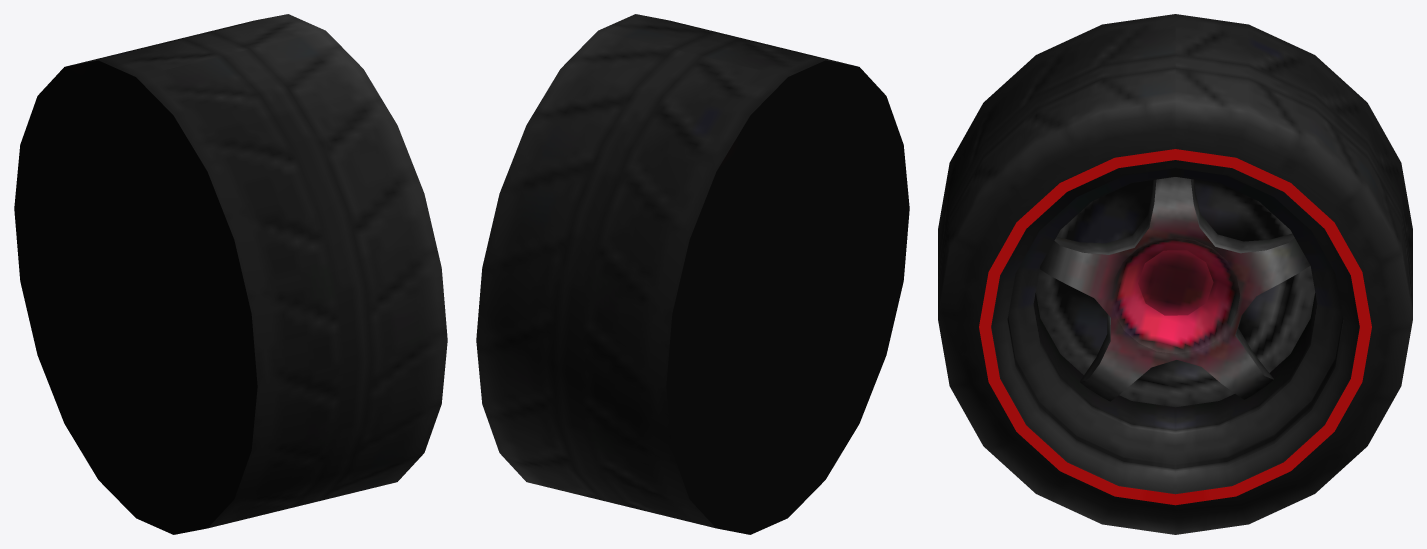
3 views of the same model, side by side, from view 1: azimuth 30°, elevation 25°; view 2: azimuth 150°, elevation 25°; view 3: azimuth 270°, elevation 25° (orthographic). The views are drawn at different scales.
Visible parts, largest first — view 1: r_0139_fl; view 2: r_0139_fl; view 3: r_0139_fl.
Boxes of the visible parts, box(x1,y1,x2,y2) form: r_0139_fl: box(14, 14, 447, 534); r_0139_fl: box(476, 14, 909, 534); r_0139_fl: box(938, 14, 1412, 534).
Bounding box in the file's own units: 17.1 × 35.05 × 35.05.
1 material, 1 textured.
